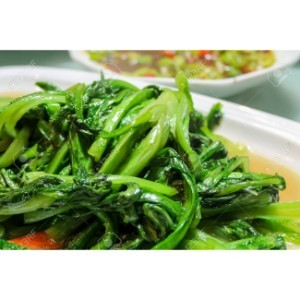spinach_brain food: (55, 93, 177, 229)
